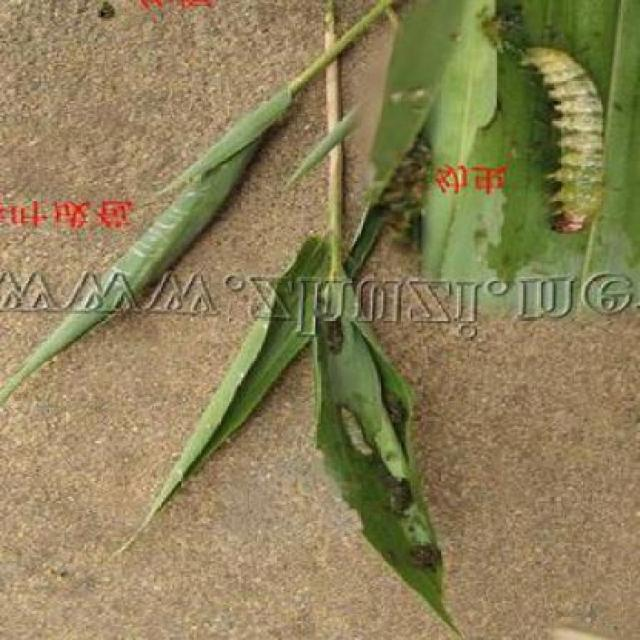leaf-folder: (500, 39, 622, 266), (316, 377, 410, 488)
